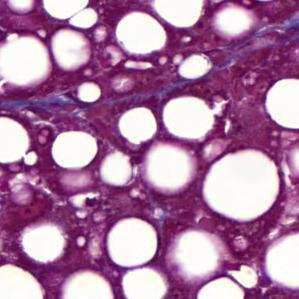steatosis: (107, 217, 158, 266), (51, 132, 98, 170), (266, 76, 299, 129)
